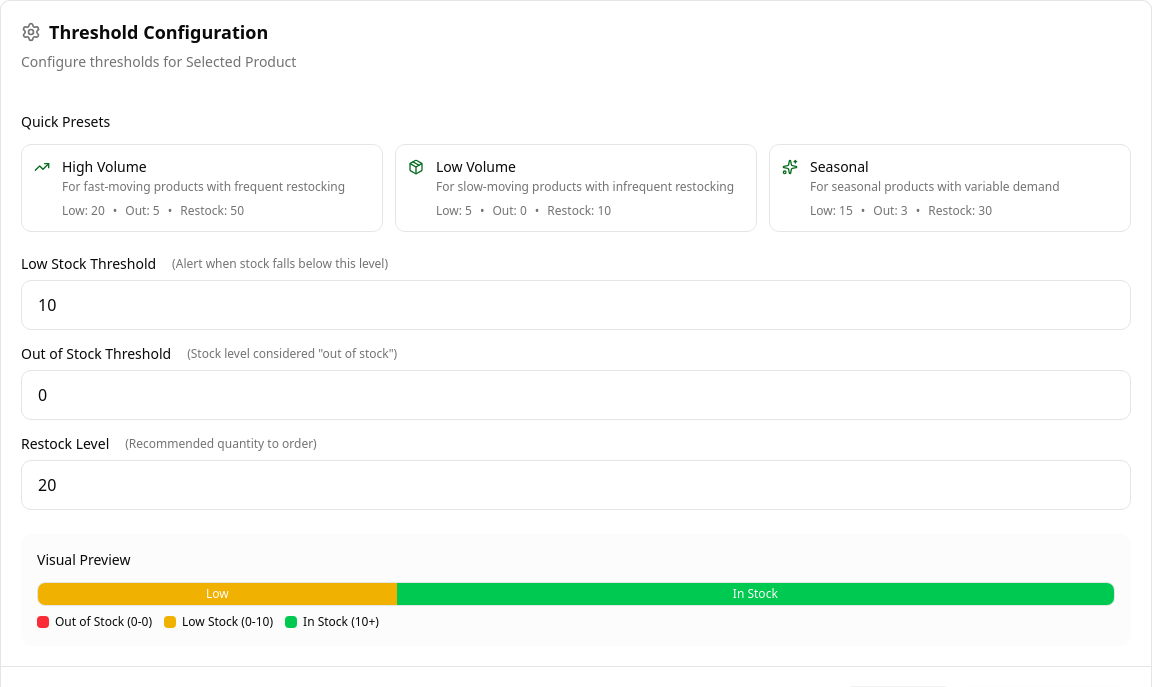
ThresholdSettings Component › Preset Templates › should apply Seasonal preset
Step 1. Click the button "Seasonal" → (950, 188), box [769, 144, 1131, 232]
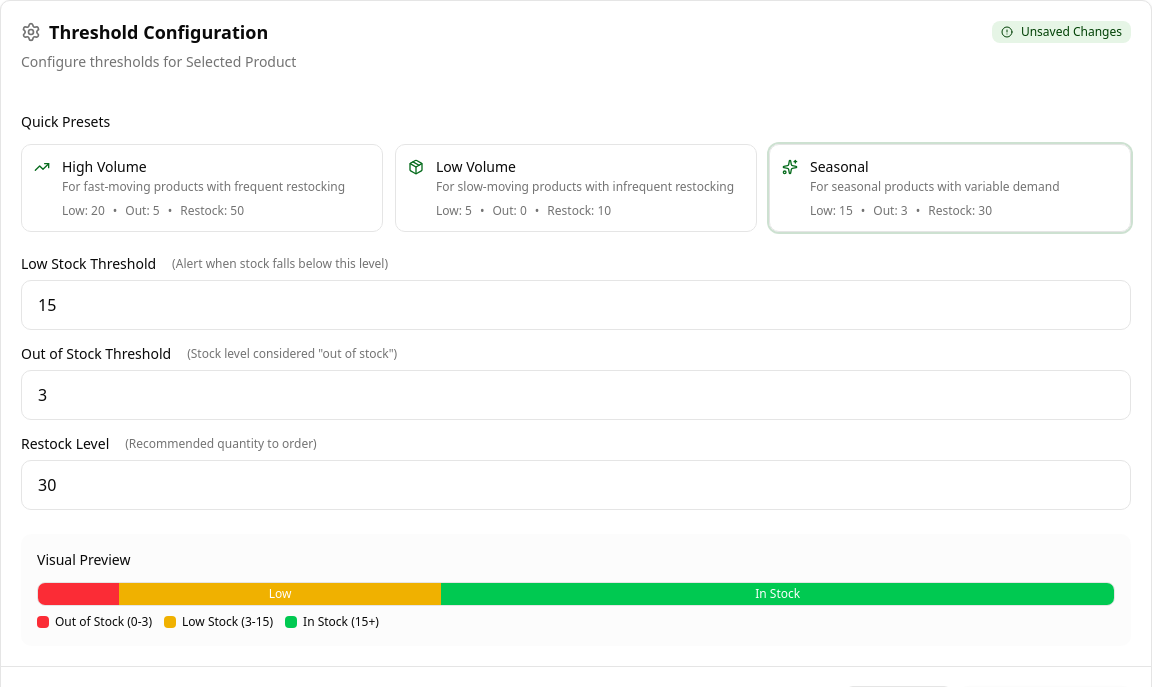
Check: the number field labelled "Low Stock Threshold" holds "15", box [21, 280, 1131, 330]
Check: the number field labelled "Out of Stock Threshold" holds "3", box [21, 370, 1131, 420]
Check: the number field labelled "Restock Level (Recommended quantity to order)" holds "30", box [21, 460, 1131, 510]
